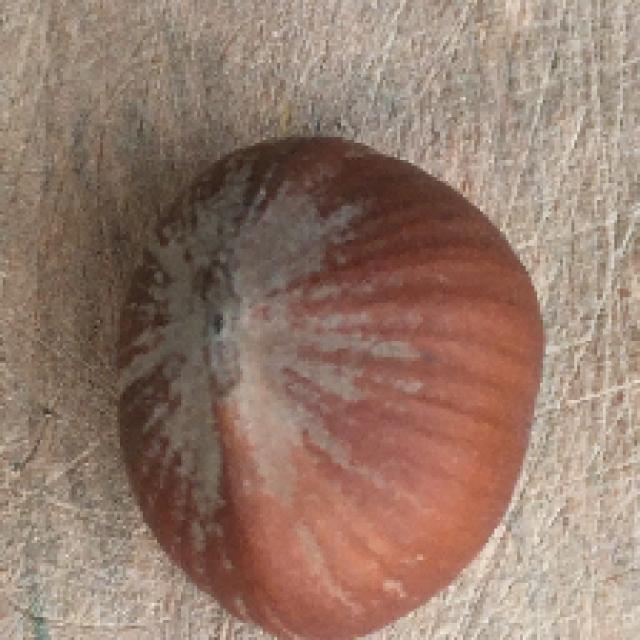damagedHazelnut: (111, 125, 550, 640)
